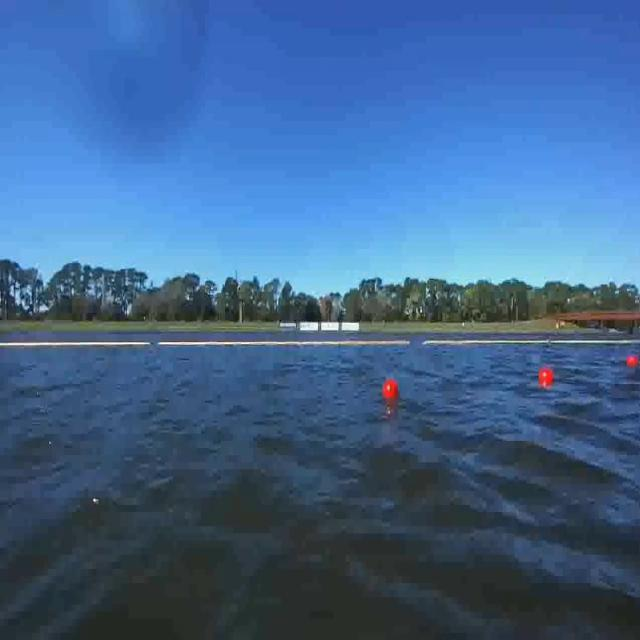red-buoy: (381, 378, 397, 399), (540, 366, 556, 386), (626, 355, 639, 367)
